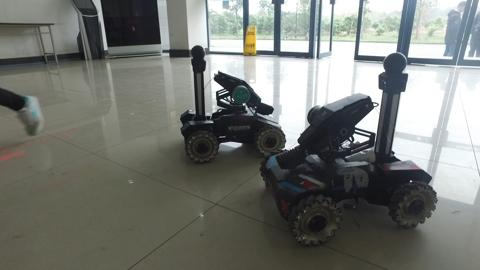chariot: (260, 47, 440, 252), (170, 44, 285, 165)
